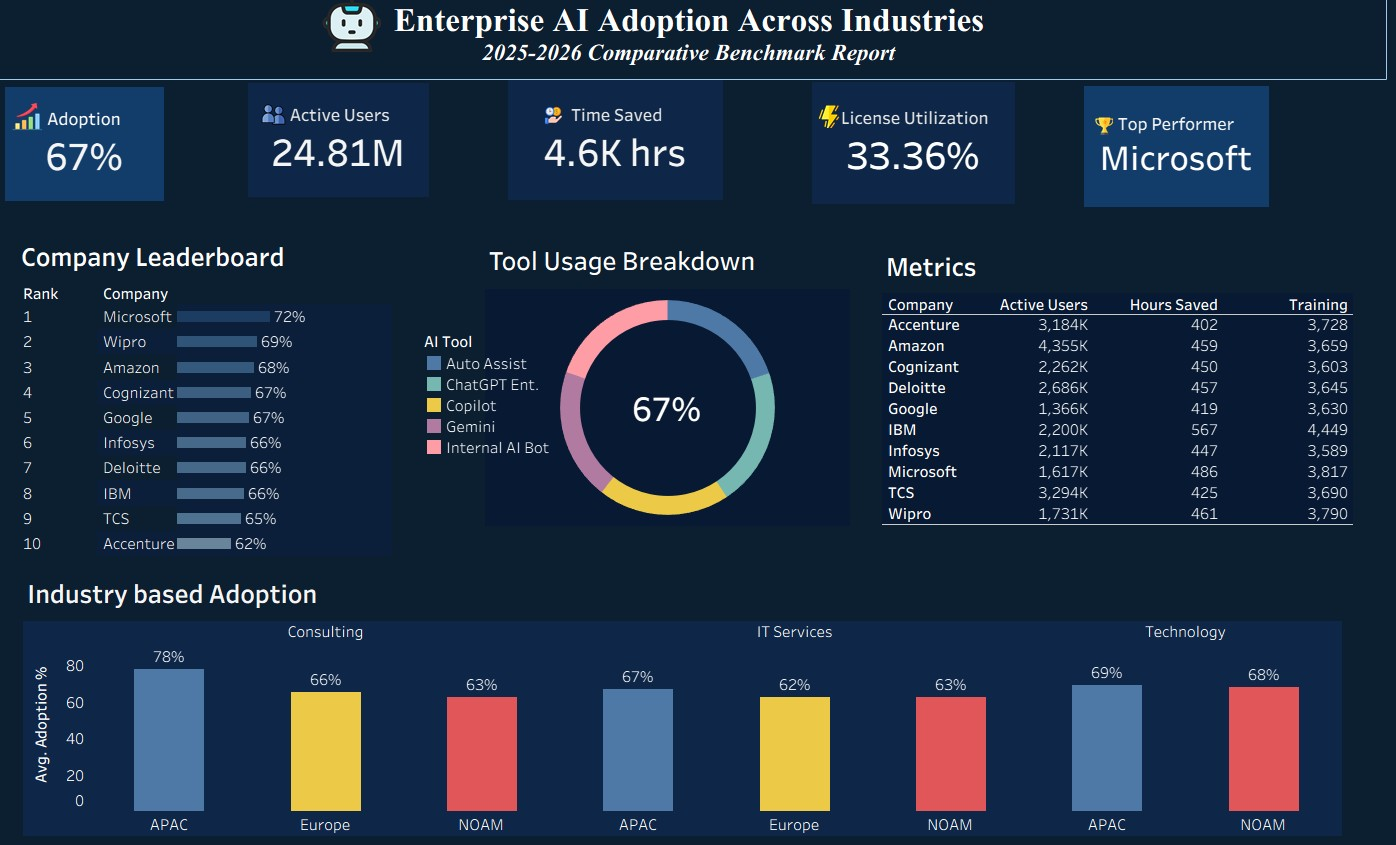

Layout of this report page (visuals, bound fields, positions):
{"tool":"tableau","page":{"name":"Enterprise AI Adoption","canvas":[1400,1000],"ordinal":0},"visuals":[{"type":"image","param":"Image/ai-technology (1).png","box":[326,16,91,59]},{"type":"worksheet","title":"Time Saved","mark":"Automatic","box":[512,103,216,120]},{"type":"worksheet","title":"License Utilization","mark":"Automatic","box":[816,105,209,123]},{"type":"worksheet","title":"Active Users","mark":"Automatic","box":[252,106,187,115]},{"type":"worksheet","title":"Top Company","mark":"Text","box":[1088,109,186,121]},{"type":"worksheet","title":"Adoption","mark":"Automatic","box":[9,110,163,116]},{"type":"image","param":"Image/growth.png","box":[16,124,34,30]},{"type":"image","param":"Image/users.png","box":[264,124,26,29]},{"type":"image","param":"Image/saving.png","box":[547,128,29,20]},{"type":"image","param":"Image/flash.png","box":[825,131,16,21]},{"type":"image","param":"Image/trophy.png","box":[1099,140,18,21]},{"type":"worksheet","title":"Company Leaderboard","mark":"Bar","rows":["Company"],"cols":["Adoption %"],"box":[11,248,395,341]},{"type":"worksheet","title":"Tool Usage Breakdown","mark":"Pie","rows":["Calculation_0544045728321540","Calculation_0544045736656904"],"box":[479,252,385,307]},{"type":"worksheet","title":"Metrics","mark":"Text","rows":["Company"],"box":[876,258,491,300]},{"type":"legend","title":"Tool Usage Breakdown","param":"[federated.0hg3l3u10m1yan191sbui123o6s7].[none:AI Tool:nk]","box":[428,354,180,127]},{"type":"worksheet","title":"Industry based Adoption","mark":"Bar","rows":["Adoption %"],"cols":["Industry","Region"],"box":[17,585,1339,284]},{"type":"text","box":[1209,895,151,30]}]}

Visuals, with their boxes on the page's 1400x1000 design canvas (x1, y1, x2, y2). These are canvas units, not pixel positions in the 1396x845 screenshot, which may show the page scaled, cropped or inside an application window:
image: bbox=(326, 16, 417, 75)
"Time Saved" worksheet: bbox=(512, 103, 728, 223)
"License Utilization" worksheet: bbox=(816, 105, 1025, 228)
"Active Users" worksheet: bbox=(252, 106, 439, 221)
"Top Company" worksheet (Text marks): bbox=(1088, 109, 1274, 230)
"Adoption" worksheet: bbox=(9, 110, 172, 226)
image: bbox=(16, 124, 50, 154)
image: bbox=(264, 124, 290, 153)
image: bbox=(547, 128, 576, 148)
image: bbox=(825, 131, 841, 152)
image: bbox=(1099, 140, 1117, 161)
"Company Leaderboard" worksheet (Bar marks): bbox=(11, 248, 406, 589)
"Tool Usage Breakdown" worksheet (Pie marks): bbox=(479, 252, 864, 559)
"Metrics" worksheet (Text marks): bbox=(876, 258, 1367, 558)
"Tool Usage Breakdown" legend: bbox=(428, 354, 608, 481)
"Industry based Adoption" worksheet (Bar marks): bbox=(17, 585, 1356, 869)
text: bbox=(1209, 895, 1360, 925)
